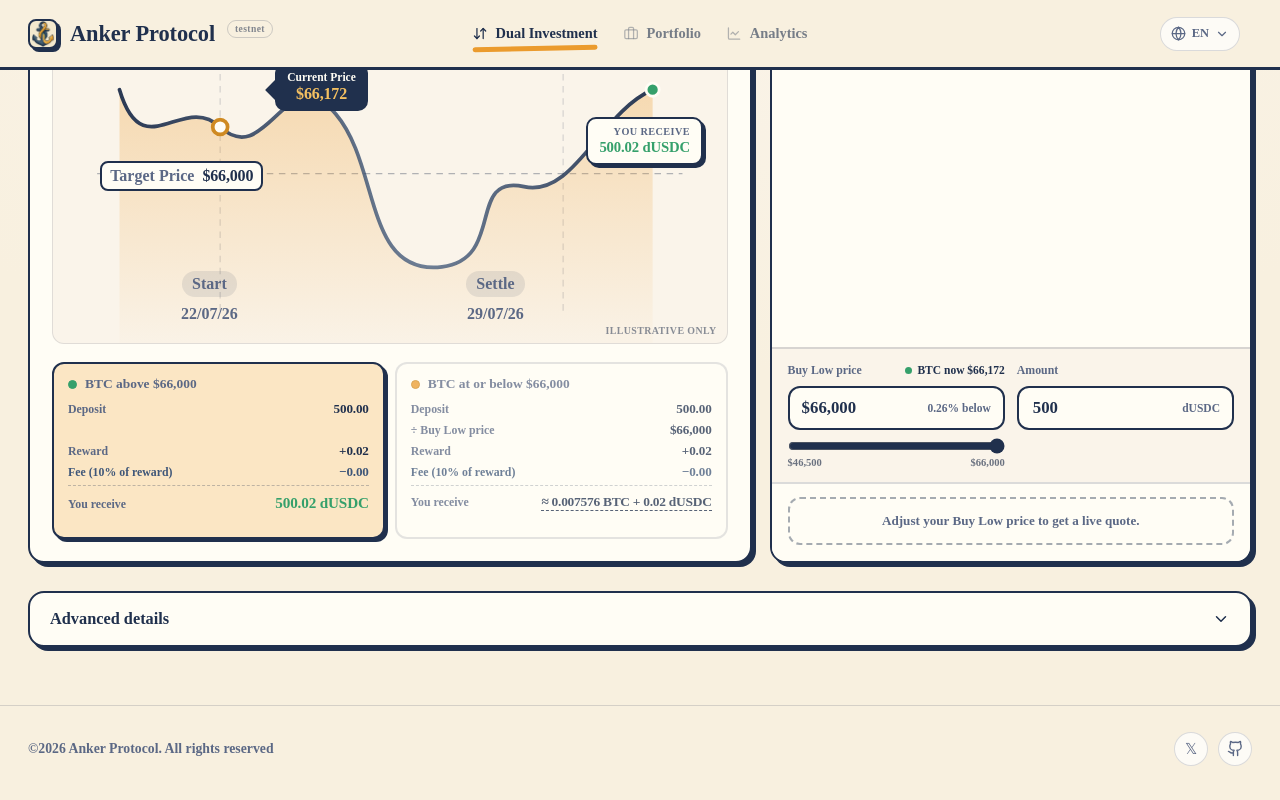
Test: DualInvestmentPage › flags hand-typed targets below the fillable minimum with a visible error
The image size is (1280, 800).
(page scrolled)
Step 1. Replace the text in the number field labelled "Buy Low price BTC now $66,172 $66,000 0.26% below" with "10" → (862, 408), box [802,397,921,419]
(page scrolled)
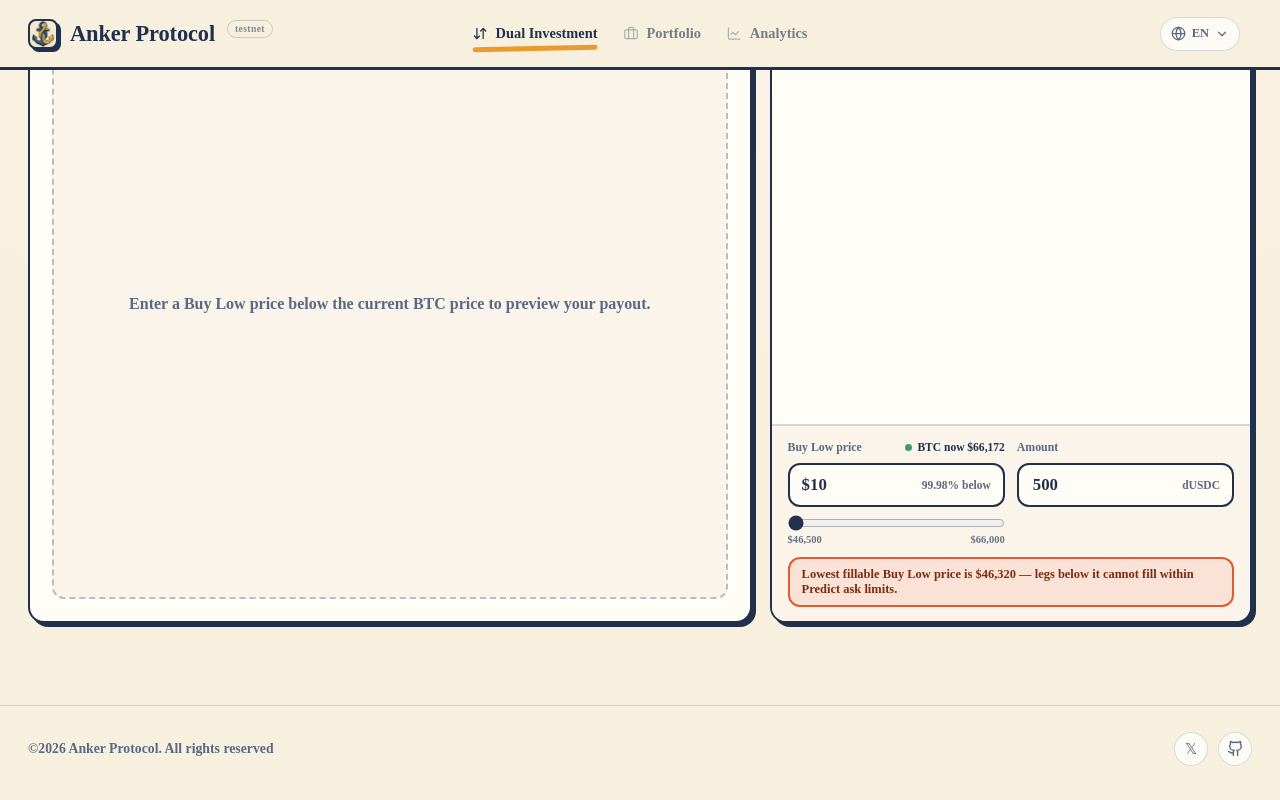
Check: the message shows "Lowest fillable Buy Low price", box [802,567,1194,596]
Check: the text "Enter a Buy Low price below the current BTC price to preview your payout." is shown, box [52,9,728,599]
Back inside the band the error clears and the estimate returns.
Step 2. Replace the text in the number field labelled "Buy Low price BTC now $66,172 $10 99.98% below" with "65500" → (859, 485), box [802,474,916,496]
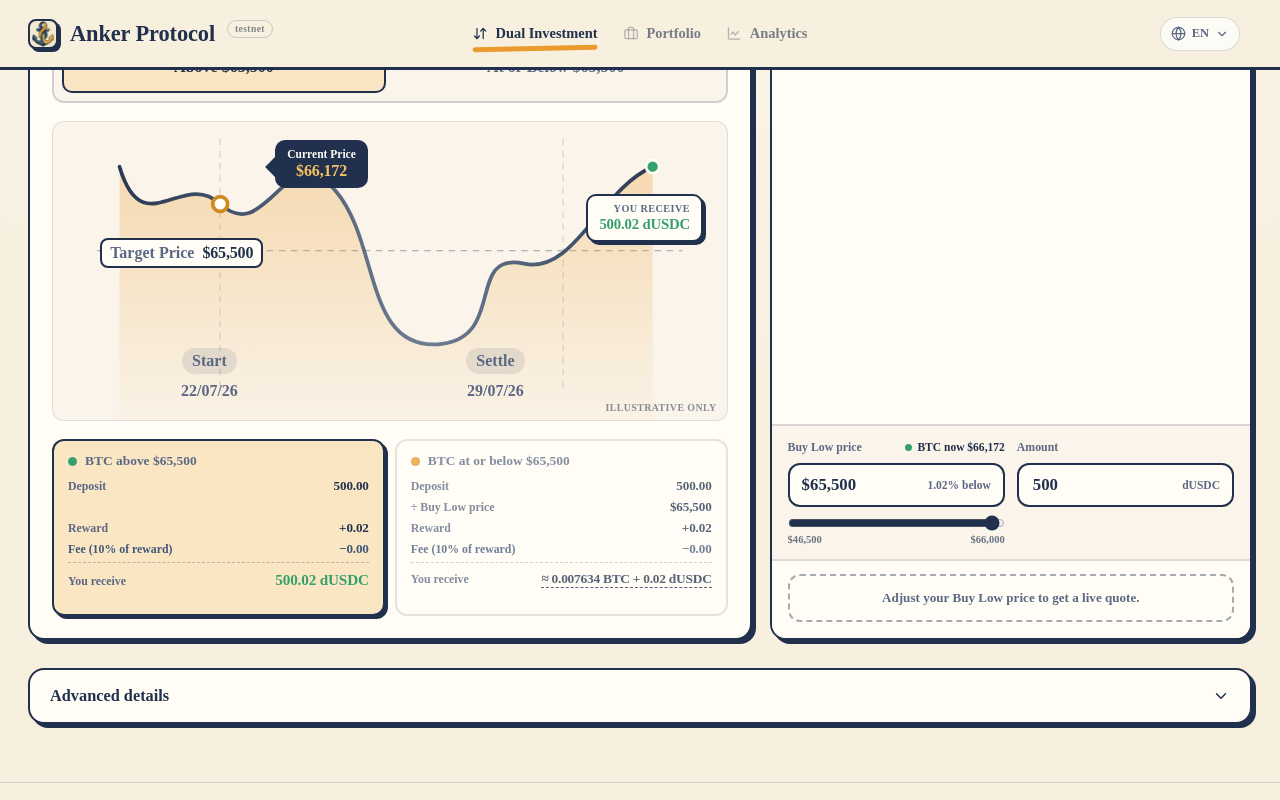
Check: the message is gone
Check: the text "BTC above $65,500" is shown, box [68,453,197,468]
